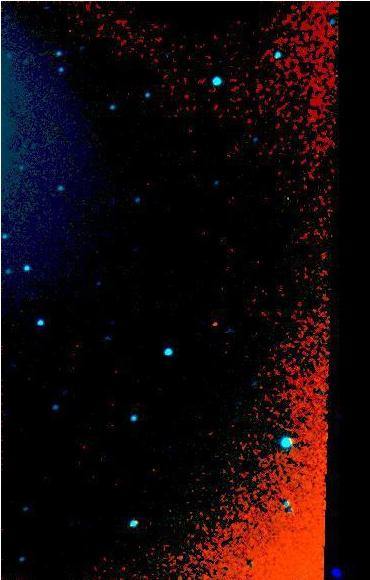star: (203, 305, 233, 335)
